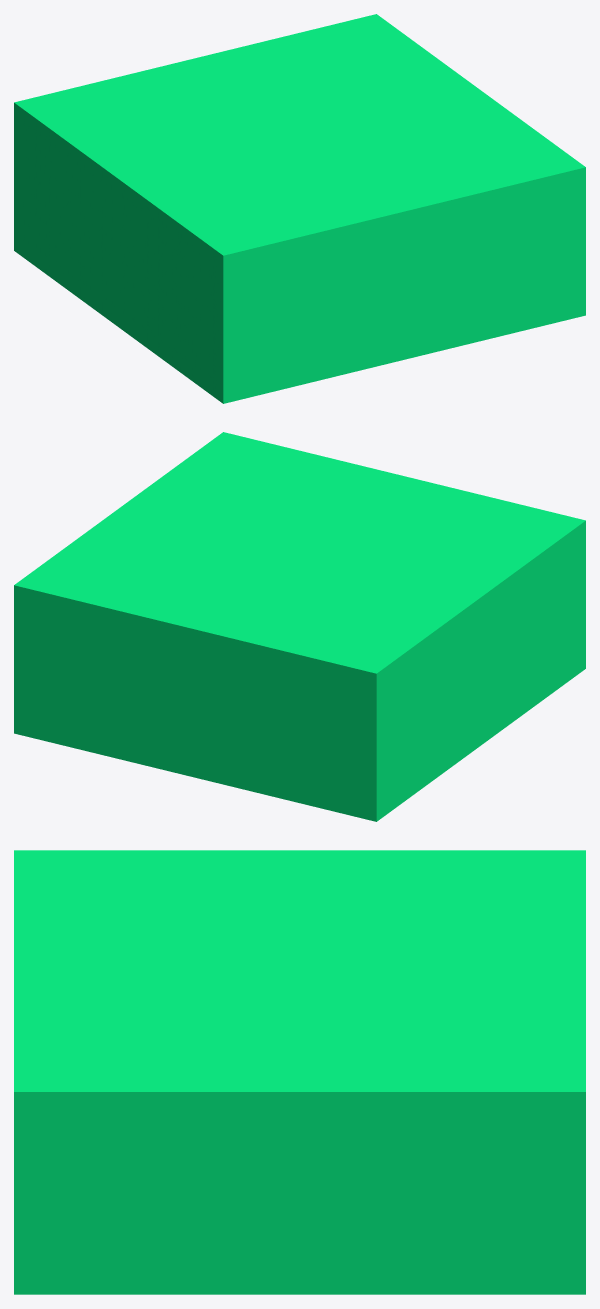
Rendered from cube_transform_animated_1766373390689.glb.
The picture shows the model from 3 angles, top to bottom: view 1: azimuth 30°, elevation 25°; view 2: azimuth 150°, elevation 25°; view 3: azimuth 270°, elevation 25°; orthographic projection. The views are drawn at different scales.
Visible parts, largest first — view 1: MathShape; view 2: MathShape; view 3: MathShape.
Part boxes in pixels (<box>): MathShape: <box>14,14,585,403</box>; MathShape: <box>14,432,585,821</box>; MathShape: <box>14,850,585,1294</box>.
Bounding box in the file's own units: 1 × 0.3906 × 1.
